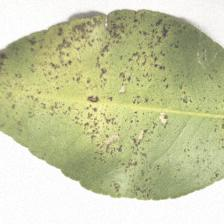canker: (56, 28, 152, 150)
